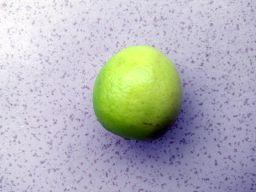lemon: (87, 35, 191, 145)
